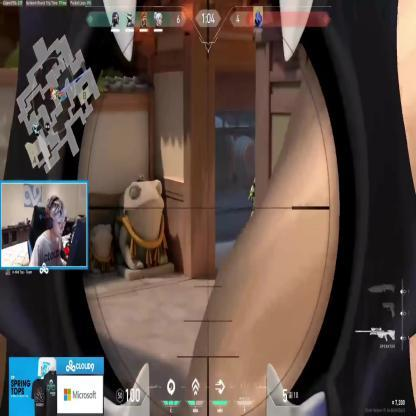enemy: (247, 174, 270, 266)
enemy_head: (254, 176, 262, 190)
